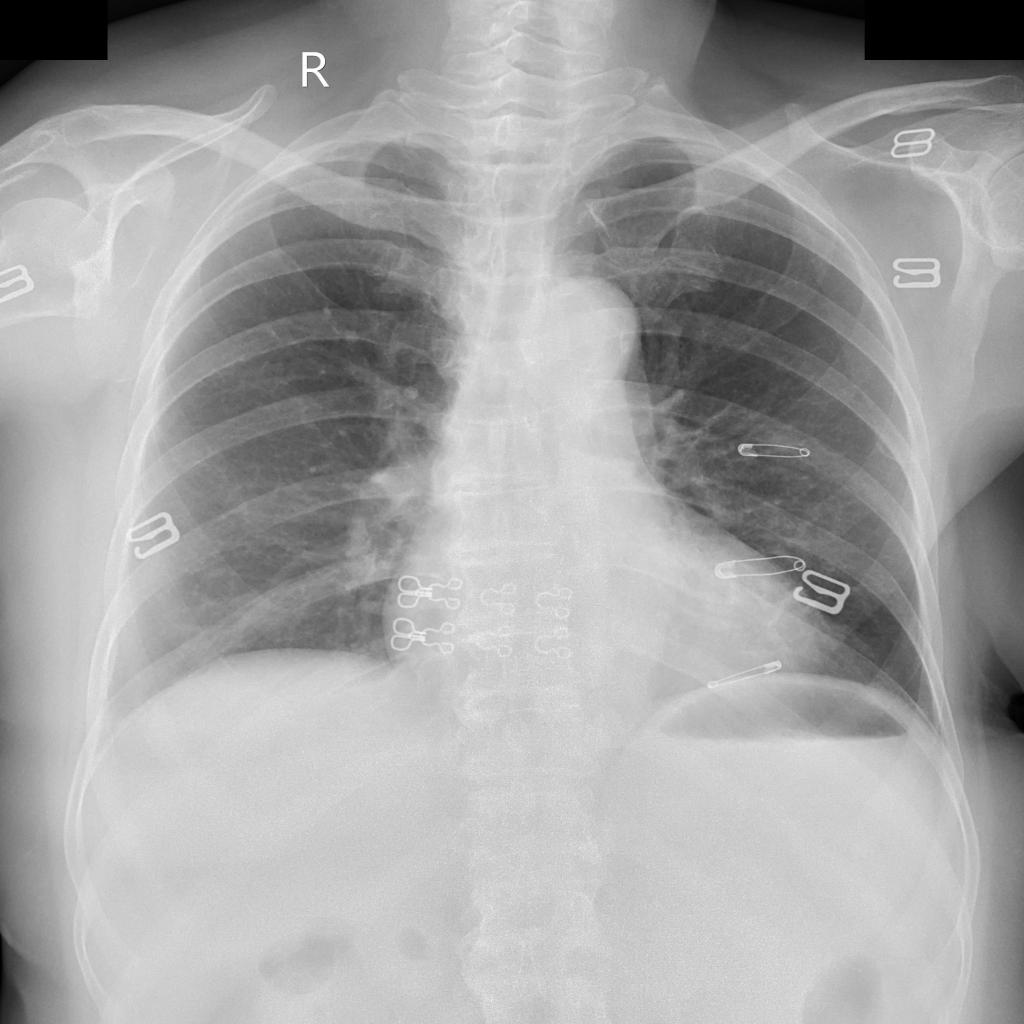Nodule: (322, 308, 360, 344)
